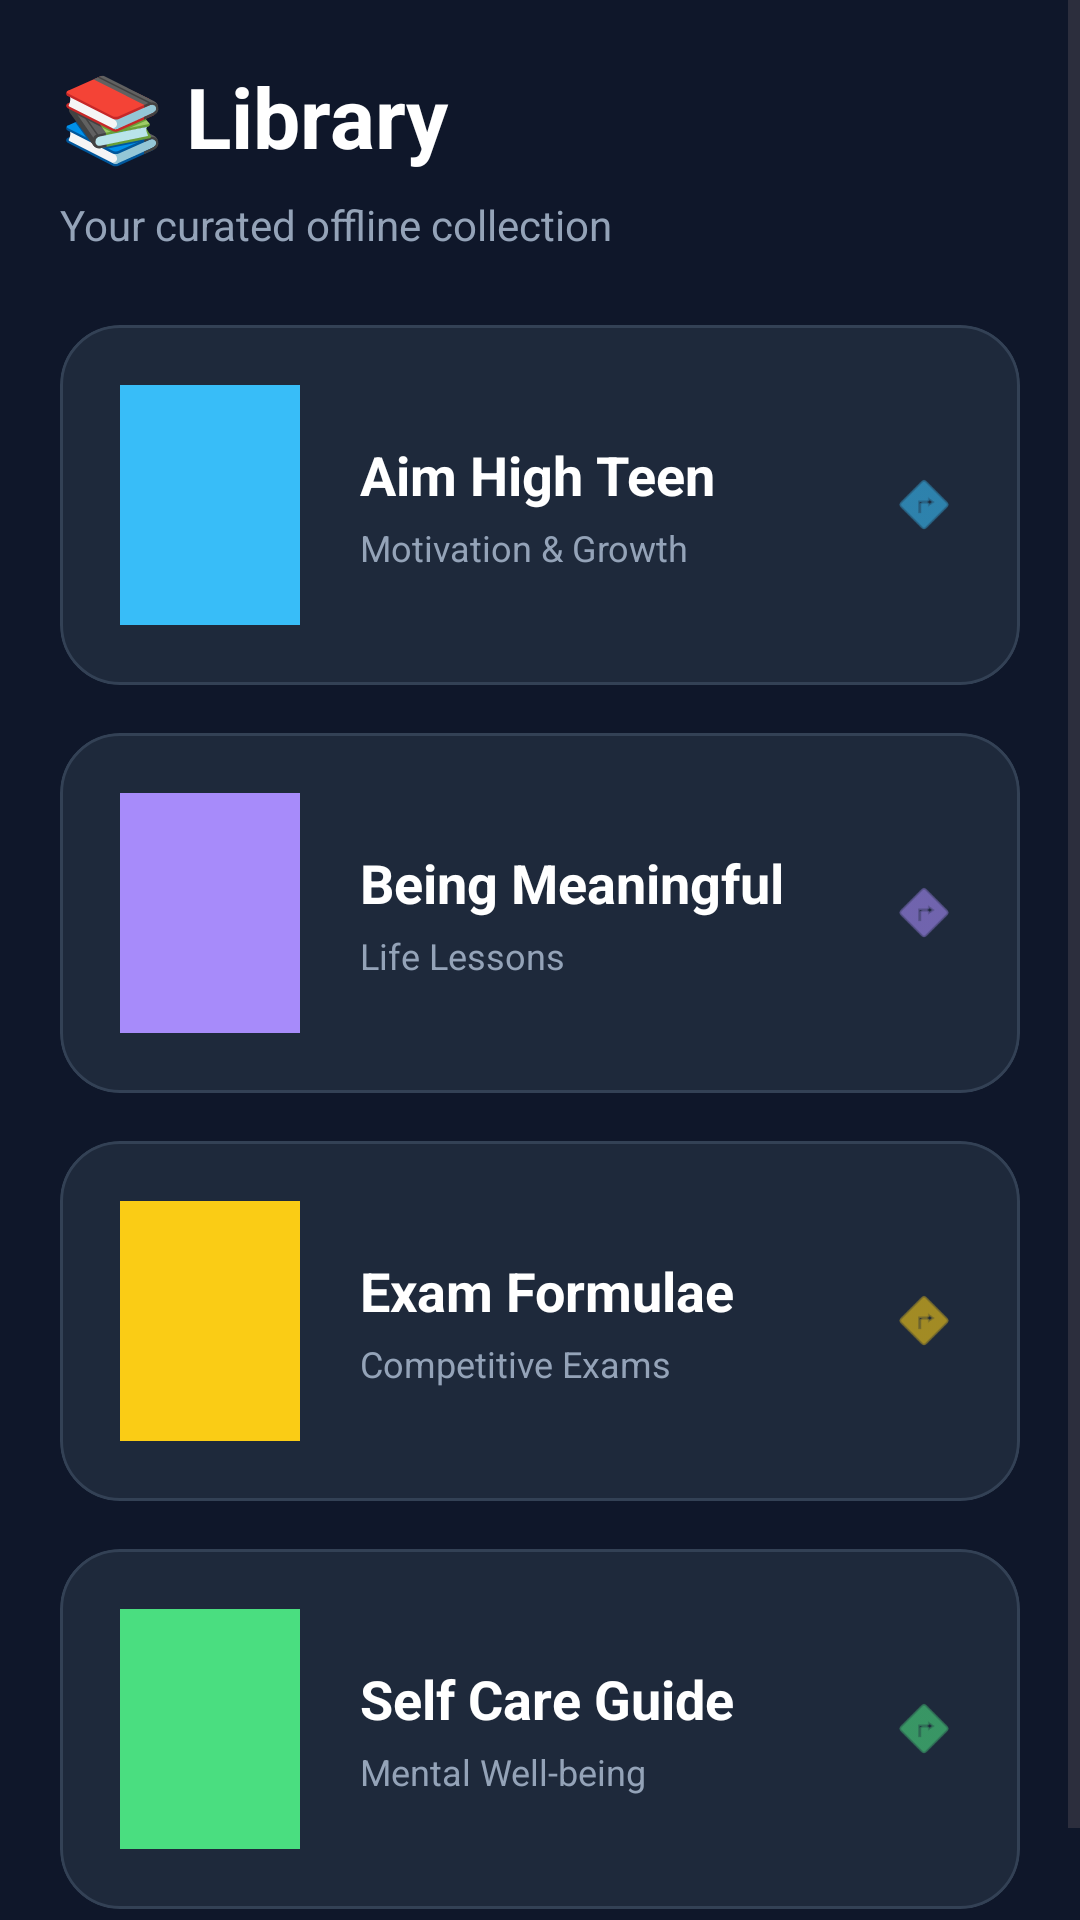

Screen size 1080x1920. Icon name, then its center in pixels as point (x, y):
directions: point (924, 504), point (924, 912), point (924, 1320), point (924, 1728)
